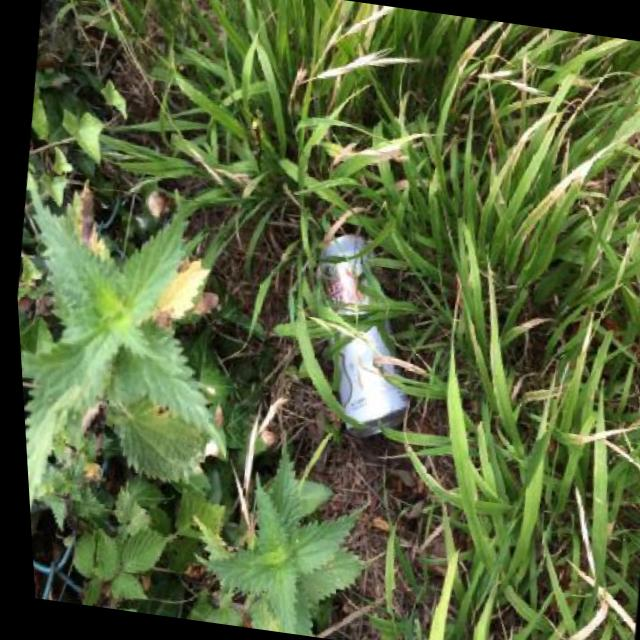metal: (293, 228, 440, 447)
